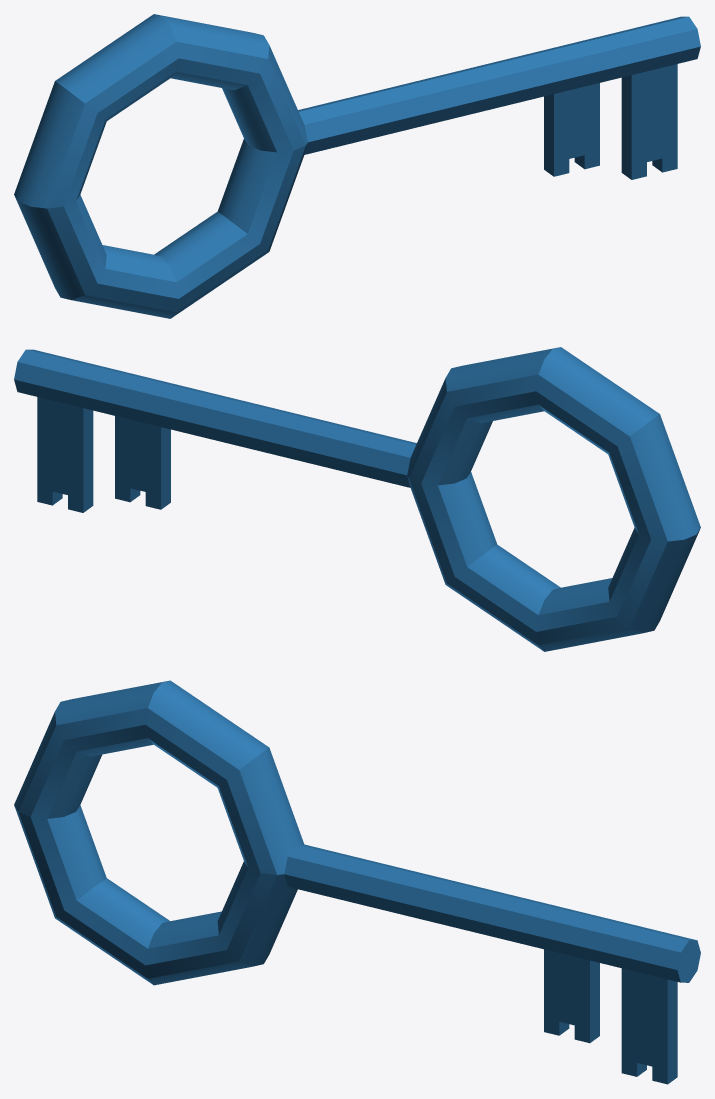
The model's file is Chave_AZUL.fbx.
3 renders of one model, top to bottom at view 1: azimuth 30°, elevation 25°; view 2: azimuth 150°, elevation 25°; view 3: azimuth 330°, elevation 25°, orthographic.
Visible parts, largest first — view 1: Torus.003; view 2: Torus.003; view 3: Torus.003.
Part boxes in pixels (<box>): Torus.003: <box>14,14,700,318</box>; Torus.003: <box>14,347,700,651</box>; Torus.003: <box>14,680,700,1084</box>.
Size of the model in its own units: 362 by 155 by 30.99.
1 material, 1 textured.
